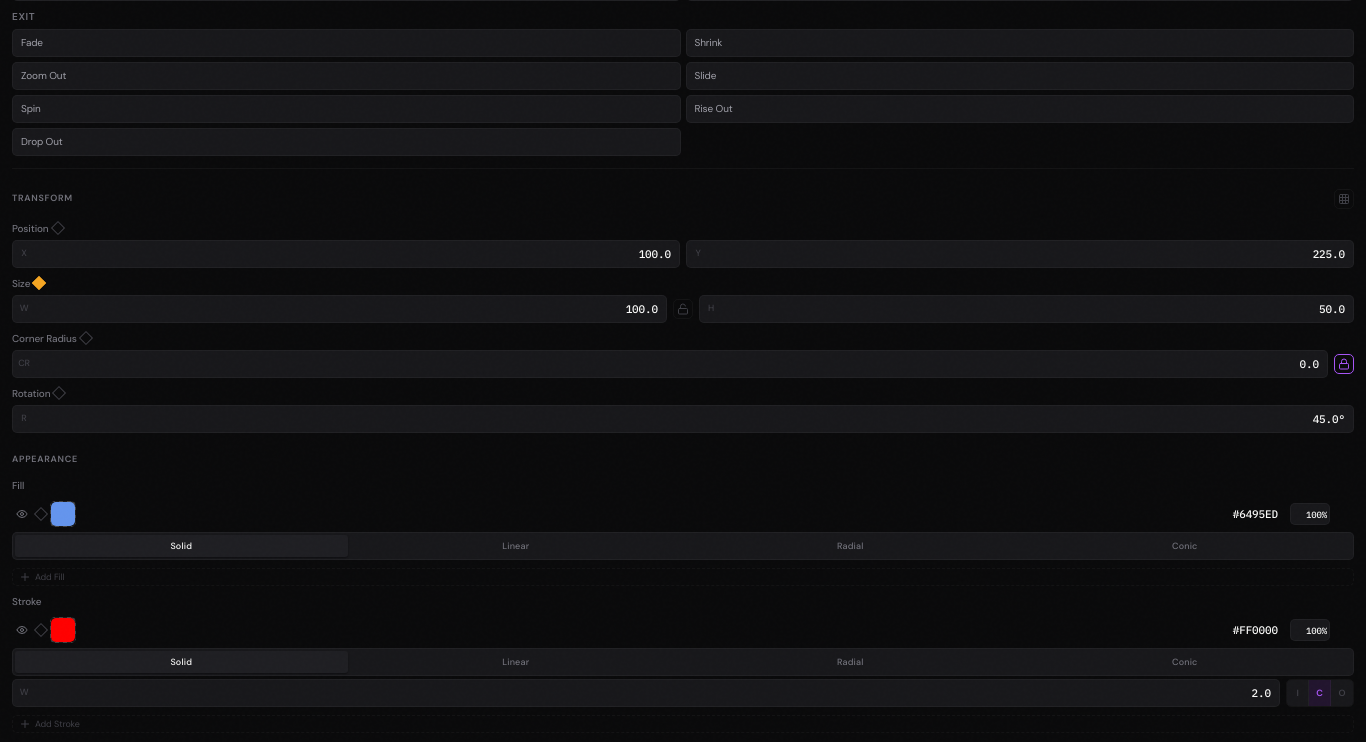
Test: PropertiesPanel › corner radius › should toggle corner radius lock and show per-corner inputs
This screenshot has width=1366, height=742.
(page scrolled)
Click the button with test id "corner-radius-lock" at point(1344, 364), box [1334, 354, 1354, 374]
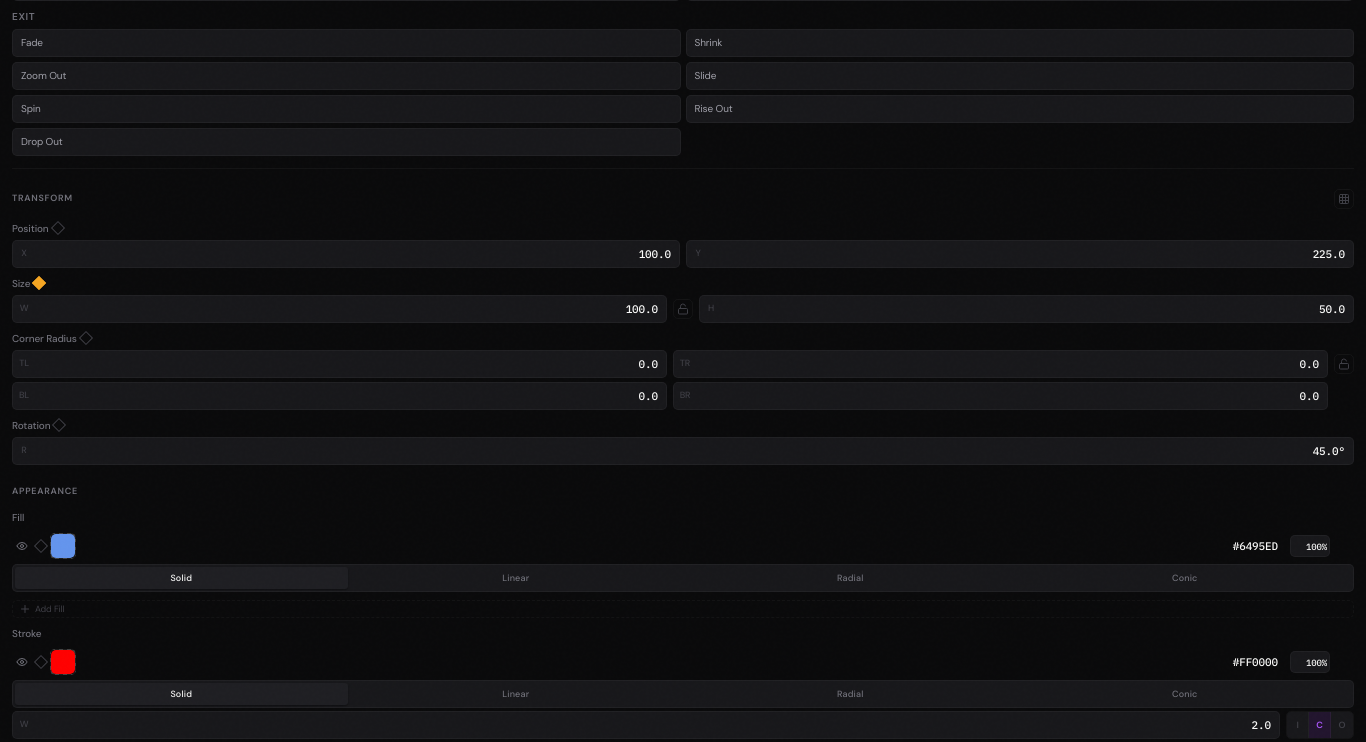
Check: the text "TL" is shown, box [19, 357, 29, 369]
Check: the text "TR" is shown, box [680, 357, 690, 369]
Check: the text "BL" is shown, box [19, 389, 29, 401]
